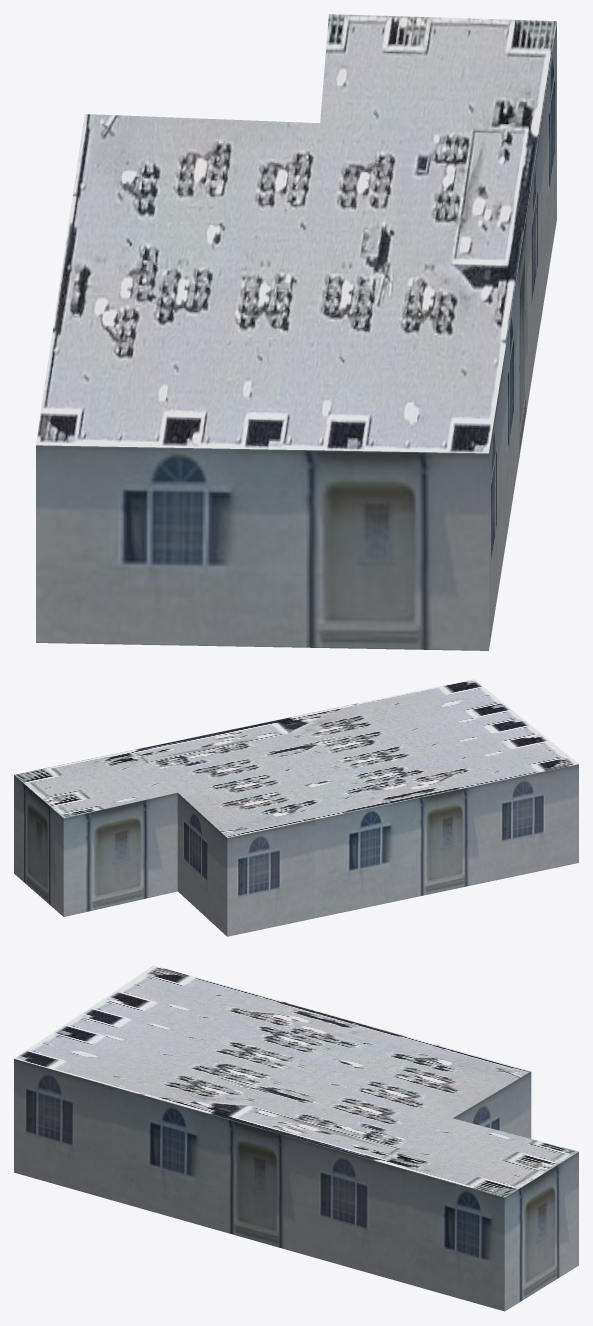
Rendered from ResTex__2041.fbx.
The picture shows the model from 3 angles, top to bottom: view 1: azimuth 30°, elevation 25°; view 2: azimuth 150°, elevation 25°; view 3: azimuth 270°, elevation 25°; orthographic projection. The views are drawn at different scales.
Visible parts, largest first — view 1: CityEngineMaterial_8_m, CityEngineMaterial_17_m; view 2: CityEngineMaterial_17_m, CityEngineMaterial_8_m; view 3: CityEngineMaterial_17_m, CityEngineMaterial_8_m.
Part boxes in pixels (x1,y1,x2,y2): CityEngineMaterial_8_m: [36, 14, 556, 453]; CityEngineMaterial_17_m: [36, 23, 556, 650]; CityEngineMaterial_17_m: [14, 764, 578, 936]; CityEngineMaterial_8_m: [14, 679, 578, 837]; CityEngineMaterial_17_m: [14, 1059, 578, 1311]; CityEngineMaterial_8_m: [14, 965, 578, 1197].
Size of the model in its own units: 13.12 by 3 by 13.49.
Materials: 2 (2 with a texture image).
